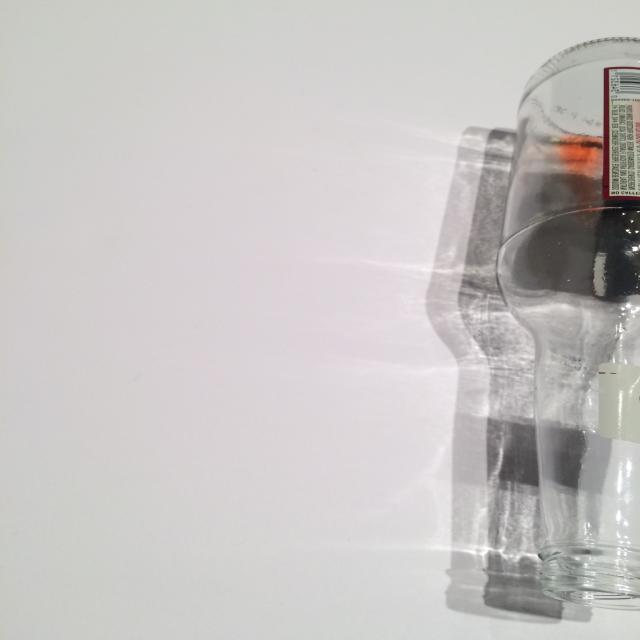glass: (494, 36, 640, 611)
